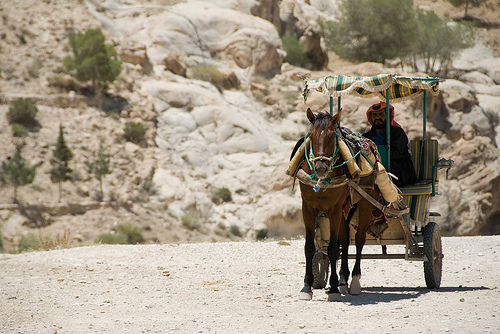horse: (285, 105, 383, 305)
